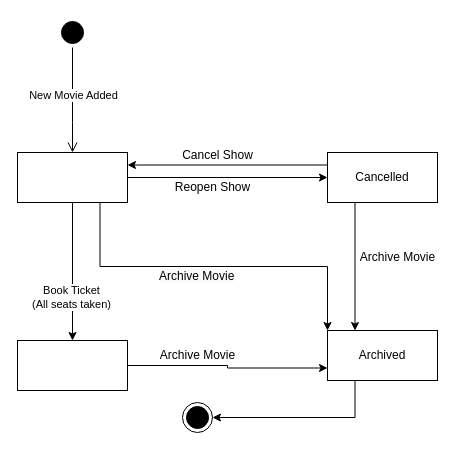
The diagram is 465 pixels wide and 450 high, and some of its shapes have lost their labels. Here are the shapes that lost their labels. From the top down, the box of each, then its label:
(16, 152, 128, 202): Available
(16, 340, 128, 390): Fully Booked
